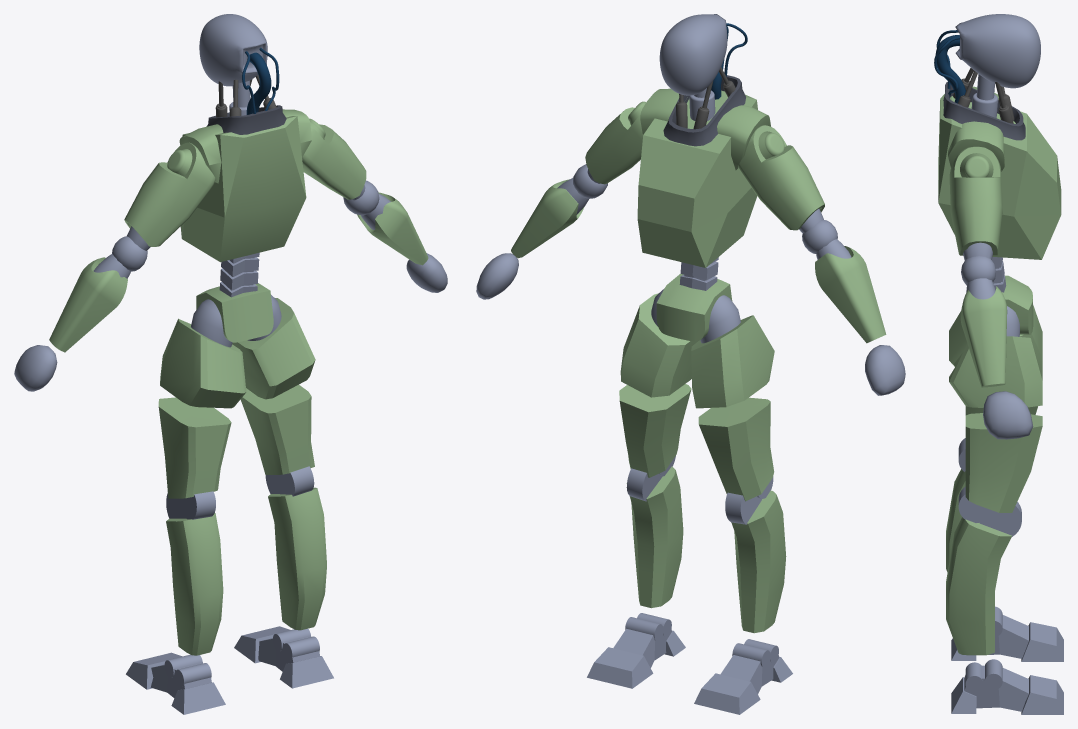
File: RobotTestModel.fbx
The picture shows the model from 3 angles, left to right: view 1: azimuth 30°, elevation 25°; view 2: azimuth 150°, elevation 25°; view 3: azimuth 270°, elevation 25°; orthographic projection.
Visible parts, largest first — view 1: LegShinBlockout, BodyPart, LegLowerThingBlockout, LegUpperThingBlockout, UpperArm, ForeArm, HeadBlockout, Pelvic, Arm Blockout, HeelBlockout, ShouderBodyPart, FootBlockout (+10 smaller); view 2: BodyPart, LegShinBlockout, LegLowerThingBlockout, LegUpperThingBlockout, UpperArm, ForeArm, HeadBlockout, ToeBlockout, Pelvic, Arm Blockout, ShouderBodyPart, FootBlockout (+9 smaller); view 3: BodyPart, LegShinBlockout, LegLowerThingBlockout, HeadBlockout, UpperArm, LegUpperThingBlockout, ForeArm, FootBlockout, ToeBlockout, Arm Blockout, ShouderBodyPart, NeckCase (+16 smaller).
Boxes of the visible parts, x1,y1,x2,y2 form: LegShinBlockout: [166, 487, 326, 655]; BodyPart: [180, 116, 306, 262]; LegLowerThingBlockout: [158, 384, 314, 498]; LegUpperThingBlockout: [160, 298, 315, 408]; UpperArm: [124, 118, 366, 246]; ForeArm: [49, 192, 428, 352]; HeadBlockout: [199, 14, 267, 86]; Pelvic: [196, 283, 273, 342]; Arm Blockout: [14, 253, 447, 391]; HeelBlockout: [171, 656, 333, 714]; ShouderBodyPart: [179, 109, 311, 183]; FootBlockout: [150, 636, 319, 698]; BodyPart: [637, 90, 757, 267]; LegShinBlockout: [626, 466, 786, 633]; LegLowerThingBlockout: [619, 384, 774, 501]; LegUpperThingBlockout: [620, 293, 774, 408]; UpperArm: [585, 101, 824, 230]; ForeArm: [511, 179, 886, 343]; HeadBlockout: [659, 14, 727, 95]; ToeBlockout: [587, 647, 760, 714]; Pelvic: [656, 274, 732, 341]; Arm Blockout: [476, 253, 905, 395]; ShouderBodyPart: [640, 88, 770, 170]; FootBlockout: [613, 625, 779, 693]; BodyPart: [938, 94, 1061, 259]; LegShinBlockout: [946, 469, 1011, 655]; LegLowerThingBlockout: [965, 406, 1042, 512]; HeadBlockout: [955, 14, 1040, 88]; UpperArm: [949, 146, 1002, 255]; LegUpperThingBlockout: [949, 305, 1042, 407]; ForeArm: [960, 286, 1007, 387]; FootBlockout: [964, 615, 1028, 711]; ToeBlockout: [1021, 622, 1063, 714]; Arm Blockout: [983, 391, 1033, 439]; ShouderBodyPart: [948, 86, 1004, 171]; NeckCase: [943, 81, 1025, 140].
Size of the model in its own units: 129 by 192 by 34.25.
